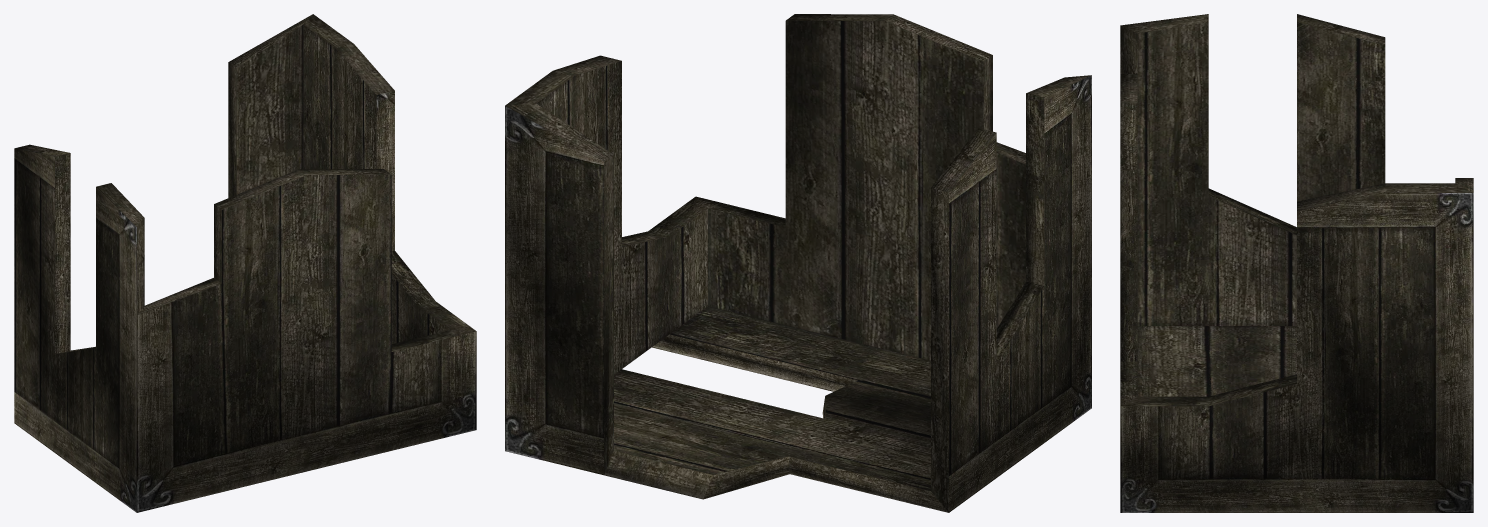
File: NW_HARBOUR_CRATEBROKEN_01.glb
3 renders of one model, left to right at view 1: azimuth 30°, elevation 25°; view 2: azimuth 150°, elevation 25°; view 3: azimuth 270°, elevation 25°, orthographic. The views are drawn at different scales.
Visible parts, largest first — view 1: Mesh; view 2: Mesh; view 3: Mesh.
Part boxes in pixels (box(x1,y1,x2,y2)): Mesh: box(14, 14, 476, 512); Mesh: box(505, 14, 1091, 512); Mesh: box(1120, 14, 1473, 512).
Size of the model in its own units: 1.2 by 1 by 1.
1 material, 1 textured.
